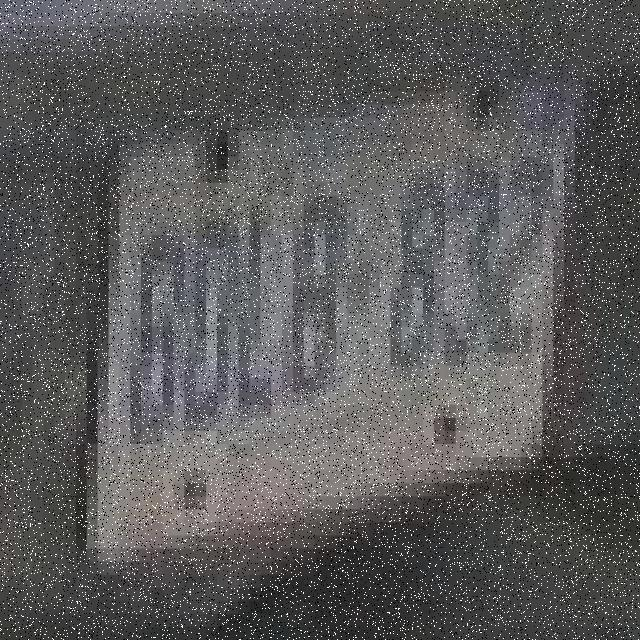LicensePlate: (87, 81, 606, 593)
